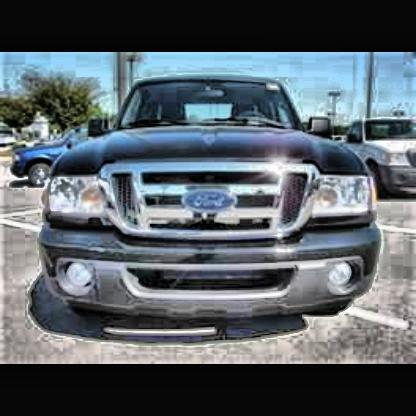Ford Ranger SuperCab 2011: (36, 72, 387, 333)
